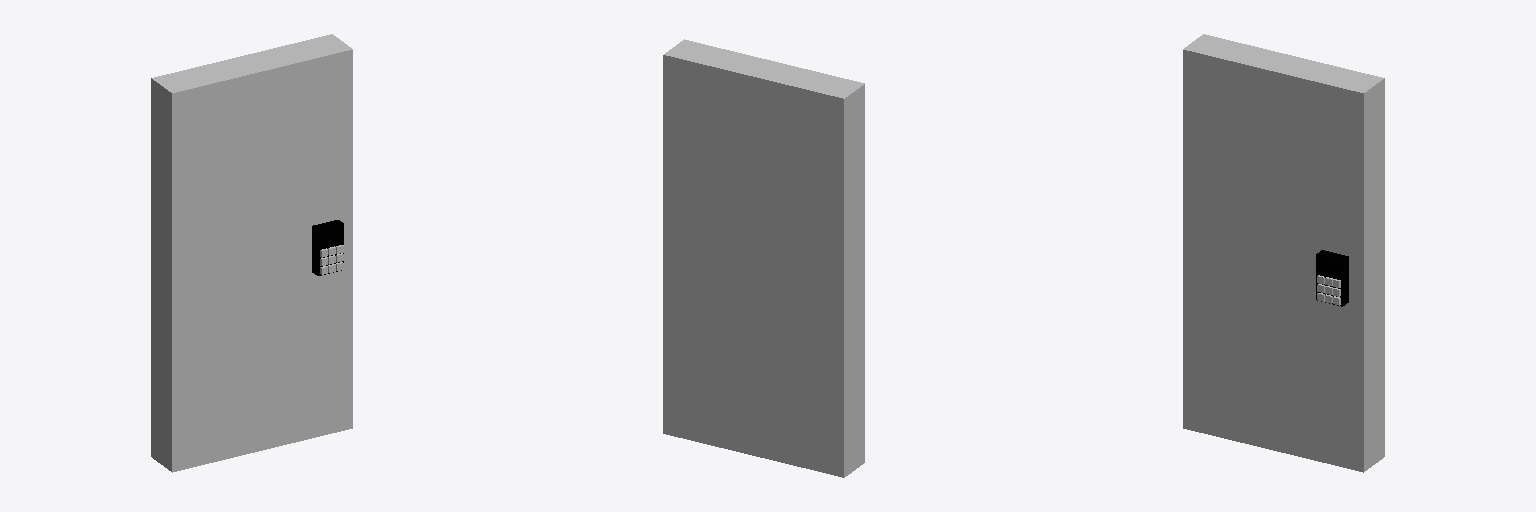
File: door.obj
3 renders of one model, left to right at view 1: azimuth 30°, elevation 25°; view 2: azimuth 150°, elevation 25°; view 3: azimuth 330°, elevation 25°, orthographic.
Visible parts, largest first — view 1: Cube; view 2: Cube; view 3: Cube.
Part boxes in pixels (x1,y1,x2,y2): Cube: (151,34,352,472); Cube: (663,39,864,477); Cube: (1183,34,1384,472).
Bounding box in the file's own units: 1 × 2 × 0.2705.